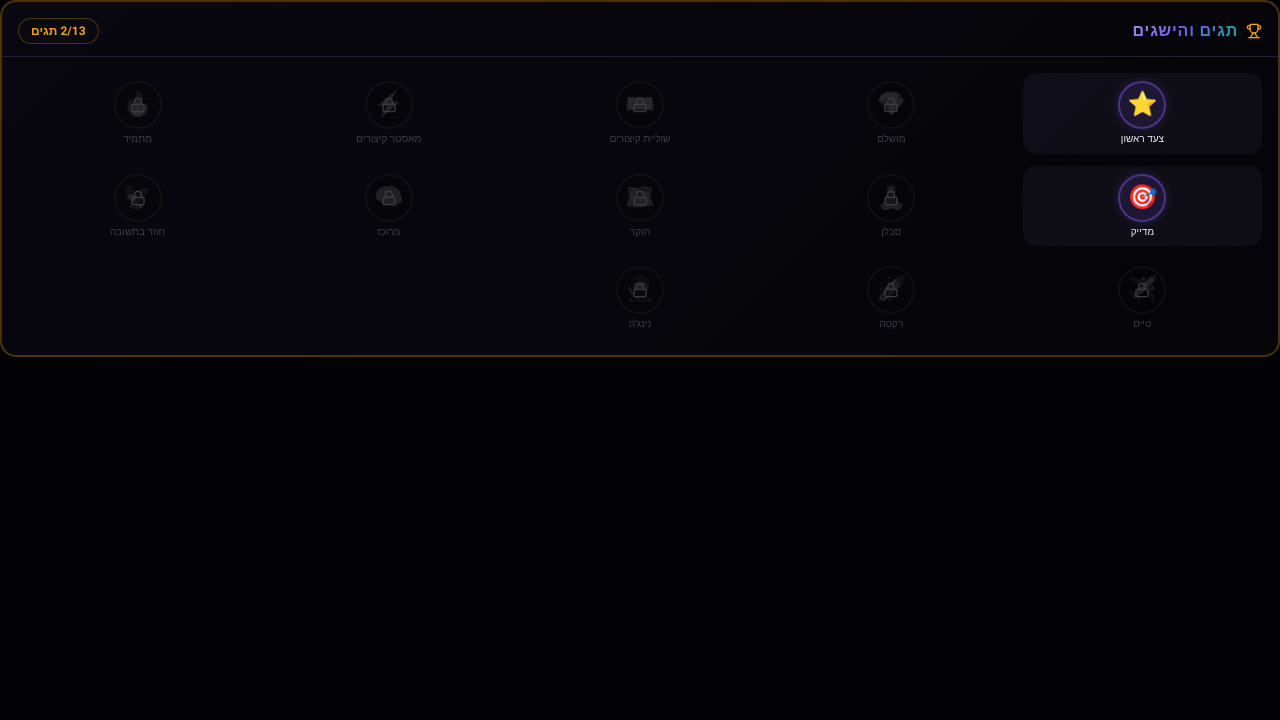
Test: BadgeShowcase › shows badge details when clicked
The width and height of the screenshot is (1280, 720).
Click the list item "⭐ צעד ראשון" at (1142, 113), box [1023,73,1262,154]
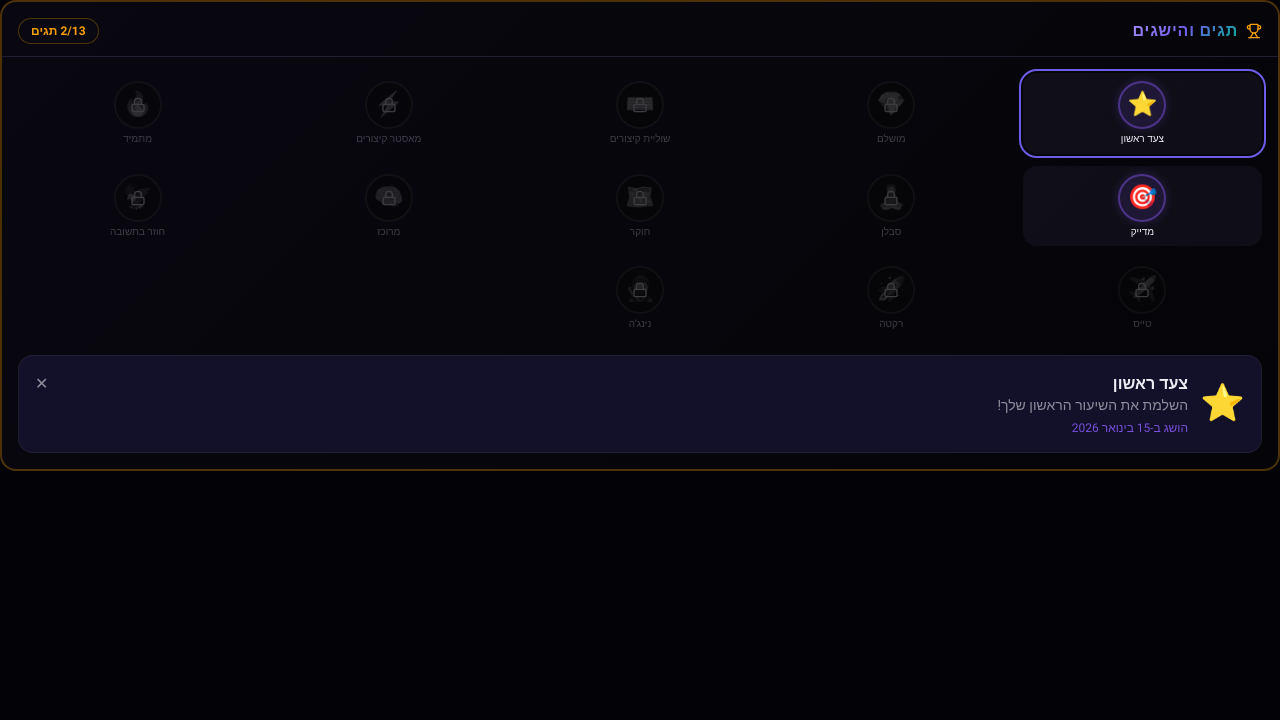
Expected: the dialog named "פרטי תג" is shown, [18,354,1262,452]
Expected: the text "השלמת את השיעור הראשון שלך!" is shown, [997,396,1188,416]
